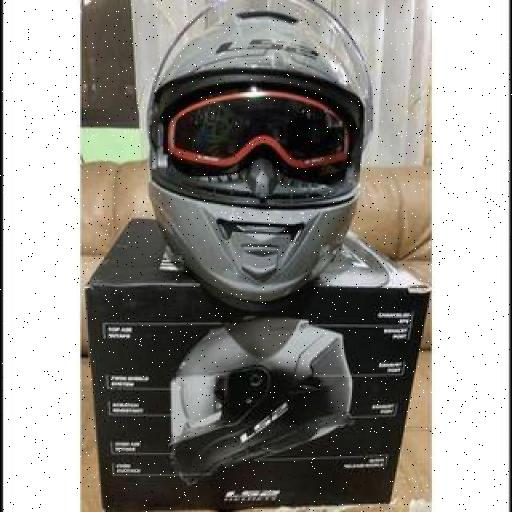Helmet: (148, 0, 371, 302), (171, 319, 351, 483)
